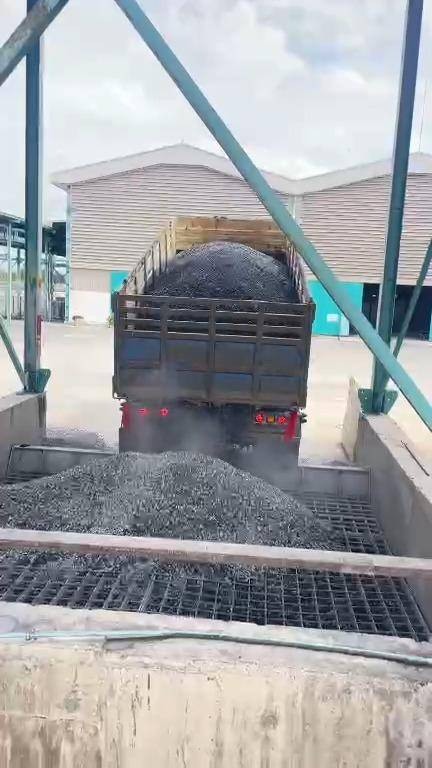gravel: (0, 453, 337, 547), (1, 551, 264, 588), (148, 242, 297, 301), (42, 427, 114, 450)
